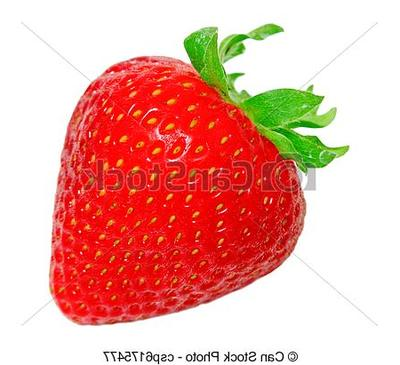strawberry: (0, 0, 400, 365)
